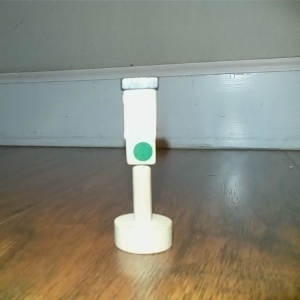traffic light green: (109, 72, 177, 254)
